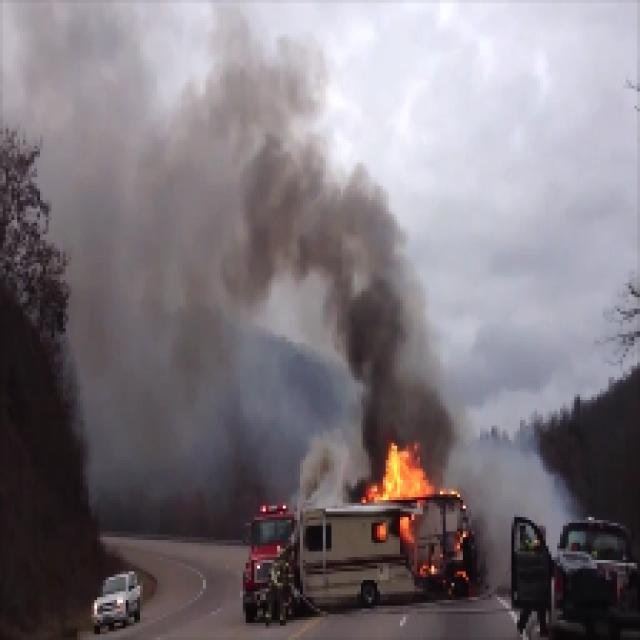Fire: (378, 442, 429, 494)
Smoke: (59, 74, 285, 214), (318, 244, 407, 414)
